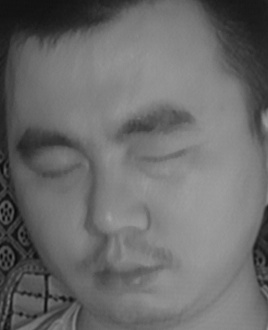blink: (135, 137, 193, 176), (35, 155, 84, 189)
mouth: (87, 245, 171, 302)
